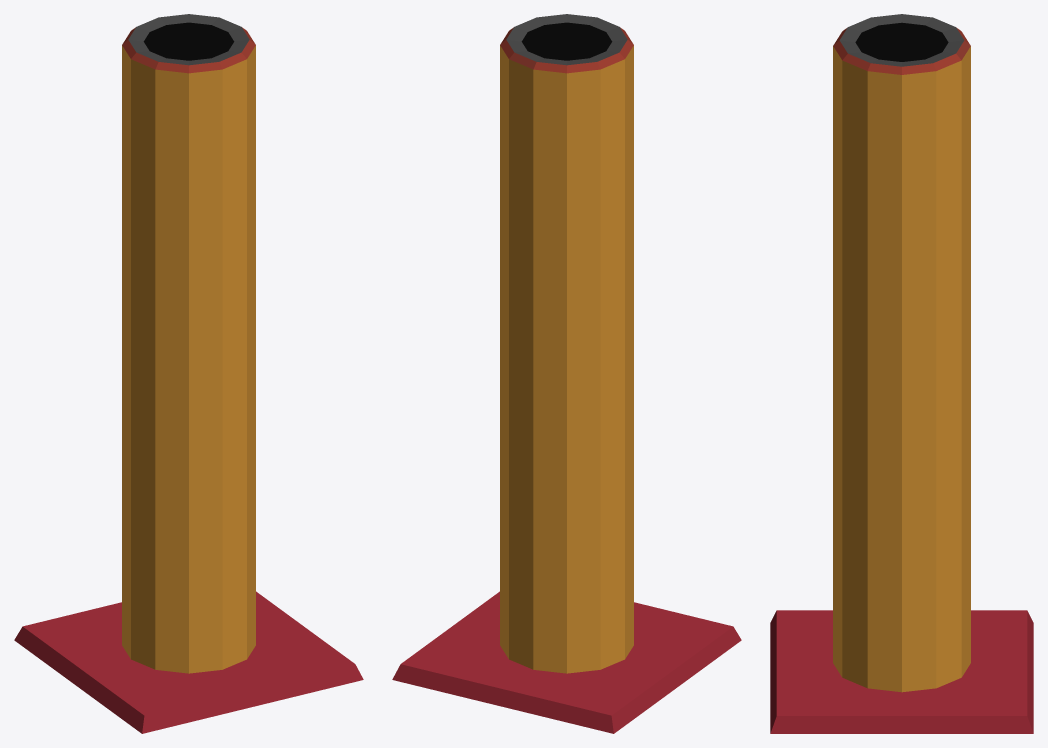
The model's file is GLD_MTube.fbx.
The picture shows the model from 3 angles, left to right: view 1: azimuth 30°, elevation 25°; view 2: azimuth 150°, elevation 25°; view 3: azimuth 270°, elevation 25°; orthographic projection. The views are drawn at different scales.
Visible parts, largest first — view 1: PreloadedTube_DummyPreloadedTube; view 2: PreloadedTube_DummyPreloadedTube; view 3: PreloadedTube_DummyPreloadedTube.
Part boxes in pixels (x1,y1,x2,y2): PreloadedTube_DummyPreloadedTube: (14, 14, 363, 733); PreloadedTube_DummyPreloadedTube: (392, 14, 741, 733); PreloadedTube_DummyPreloadedTube: (770, 14, 1033, 733).
Bounding box in the file's own units: 19.1 × 51.07 × 19.1.
